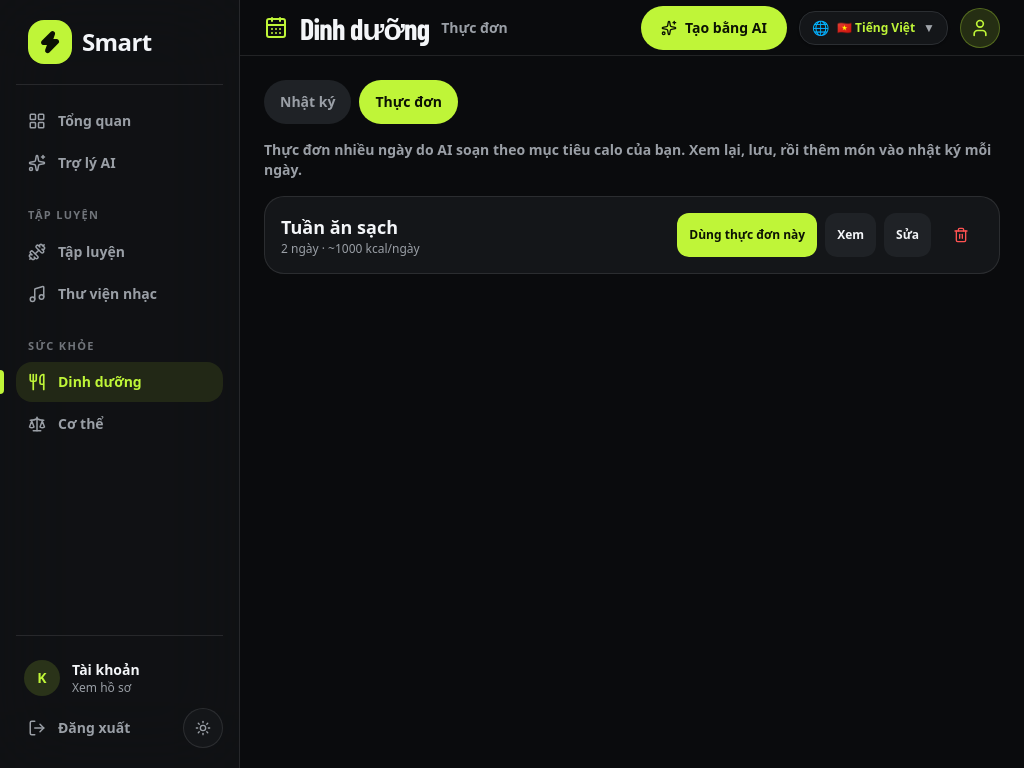
Test case: Meal plans: the list › "Xem" shows the plan read-only
Click the button "Xem": x=851, y=235 [825,213,876,257]
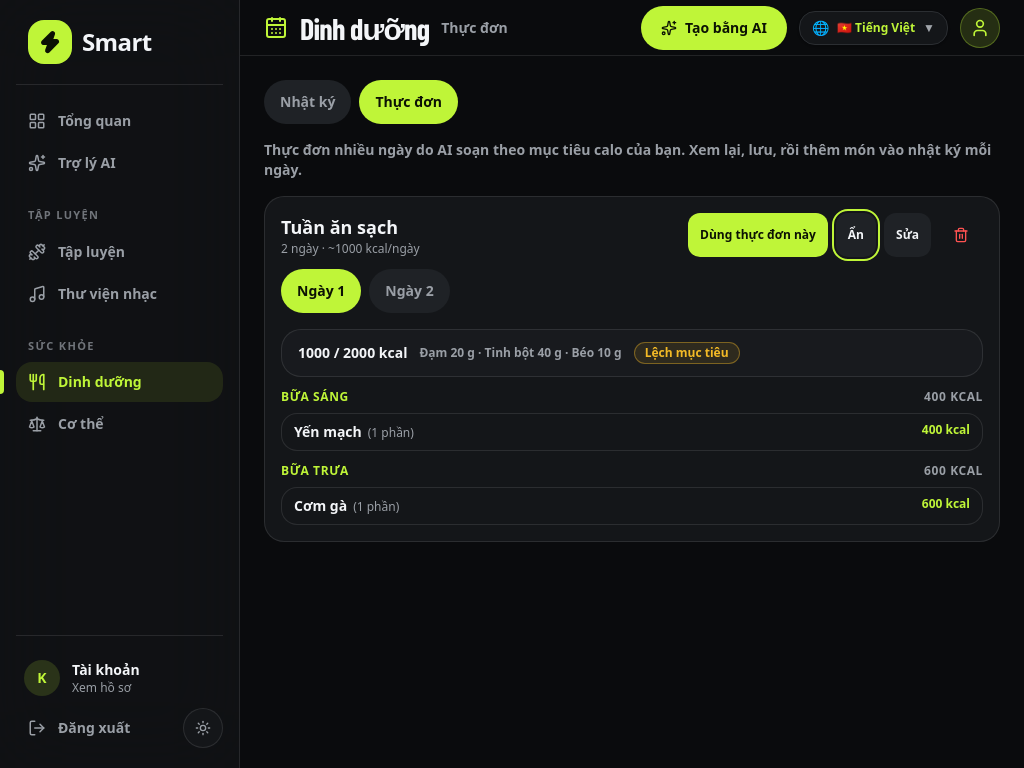
Expected: the text "Yến mạch" is shown, [294,422,362,441]
